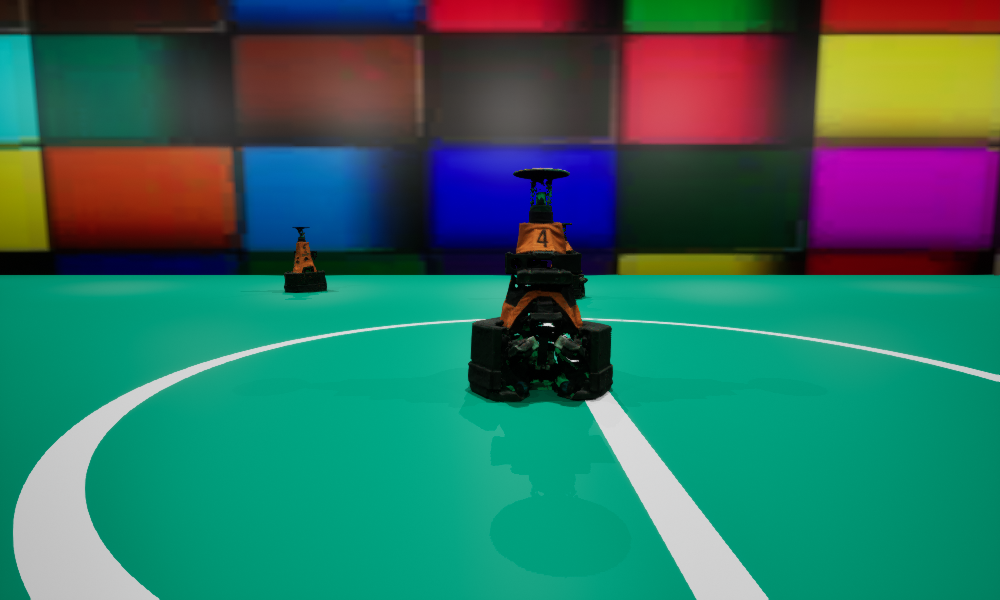0 orange robot TechUnited: (468, 168, 612, 401), (550, 223, 587, 298), (284, 227, 326, 292)
